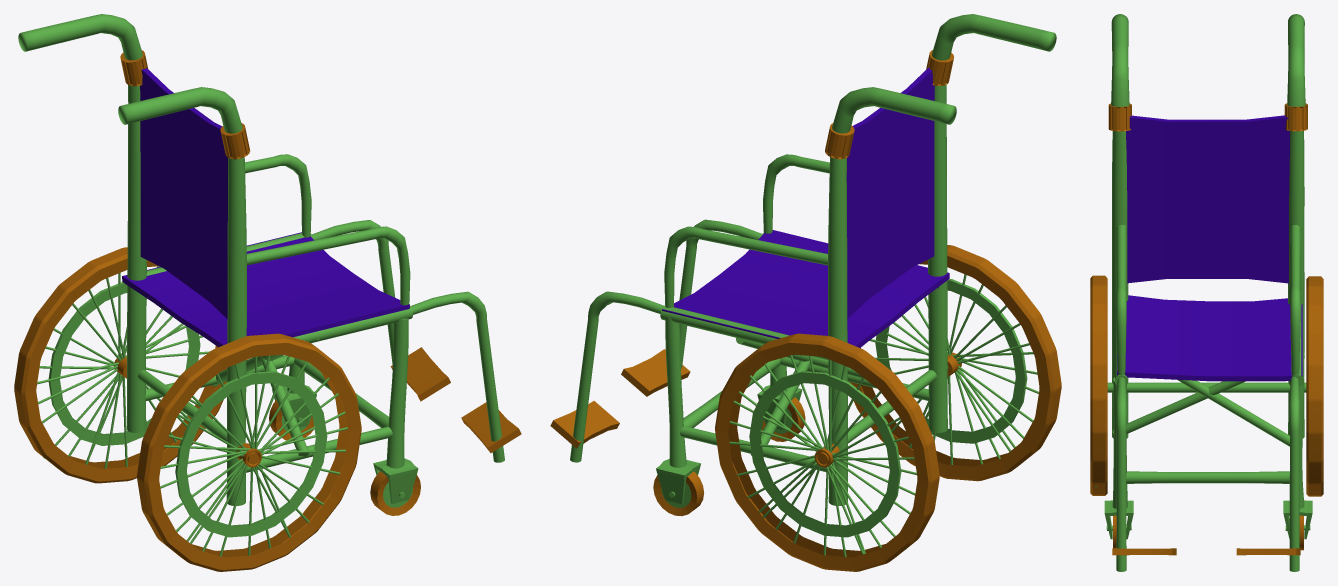
File: WHEELCHAIR PART 2.fbx
3 renders of one model, left to right at view 1: azimuth 30°, elevation 25°; view 2: azimuth 150°, elevation 25°; view 3: azimuth 270°, elevation 25°, orthographic. The views are drawn at different scales.
Visible parts, largest first — view 1: pCube6; view 2: pCube6; view 3: pCube6.
Boxes of the visible parts, x1,y1,x2,y2 form: pCube6: (14, 14, 521, 571); pCube6: (550, 14, 1061, 571); pCube6: (1090, 14, 1323, 571).
Size of the model in its own units: 6.35 by 7.25 by 3.62.
